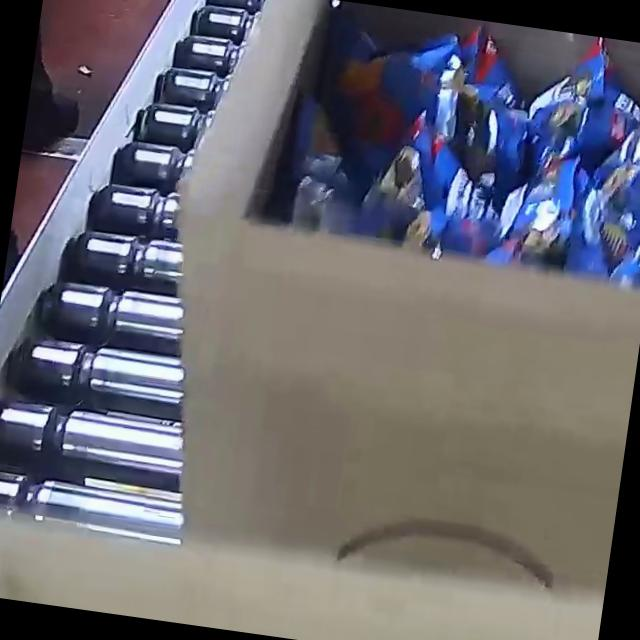paprika: (285, 0, 640, 289)
